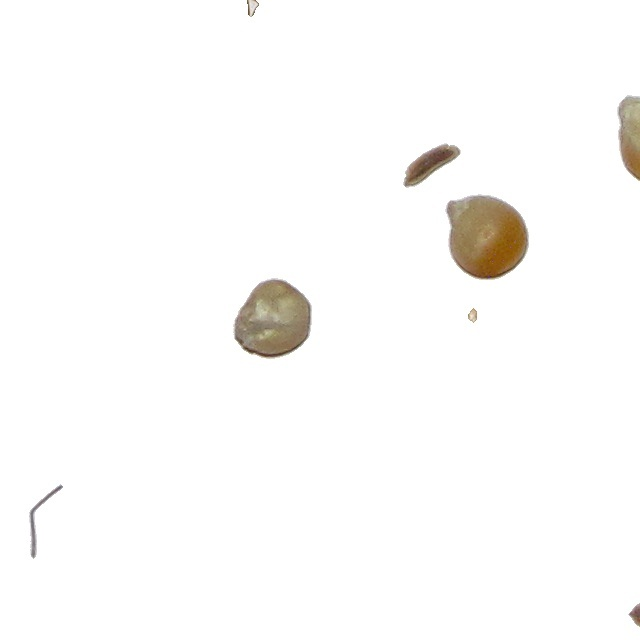buckwheat: (402, 142, 462, 189), (627, 599, 640, 637)
dill: (28, 483, 64, 560)
mais: (444, 193, 530, 281), (232, 277, 313, 360), (616, 94, 640, 188), (467, 307, 478, 324)
